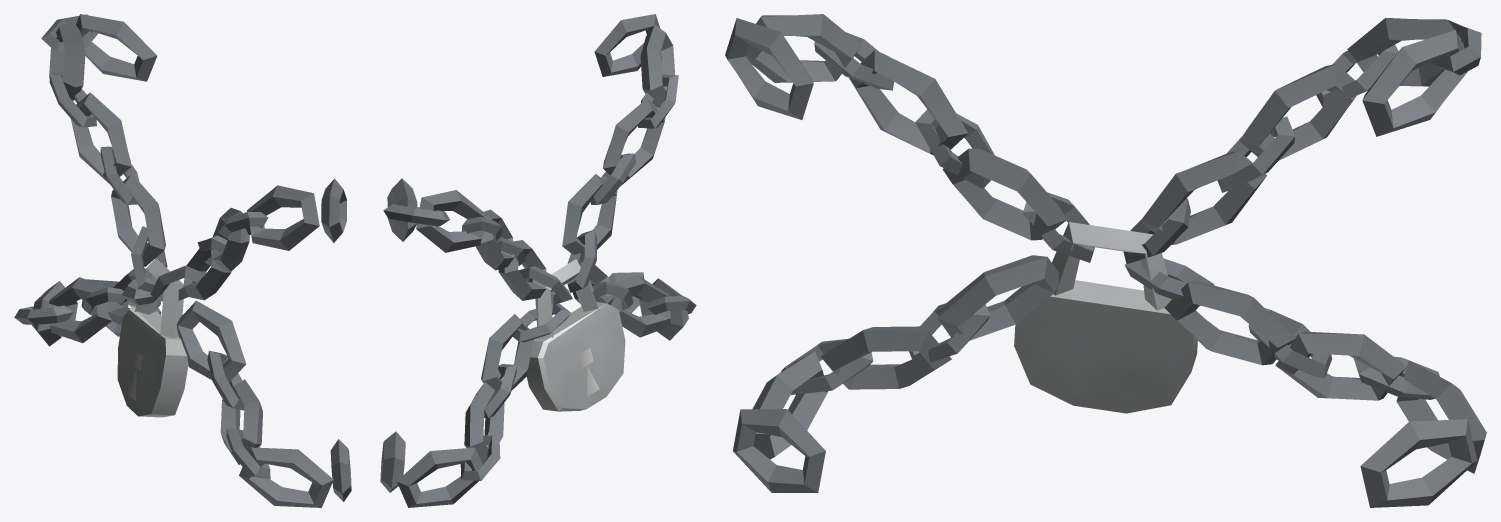
File: Chains.fbx
3 views of the same model, side by side, from view 1: azimuth 30°, elevation 25°; view 2: azimuth 150°, elevation 25°; view 3: azimuth 270°, elevation 25° (orthographic). The views are drawn at different scales.
Parts seen in each view (by area): view 1: Chains; view 2: Chains; view 3: Chains.
Boxes of the visible parts, x1=… form: Chains: x1=14, y1=14, x2=351, y2=507; Chains: x1=380, y1=14, x2=696, y2=507; Chains: x1=725, y1=14, x2=1486, y2=507.
Bounding box in the file's own units: 111 × 271 × 403.
